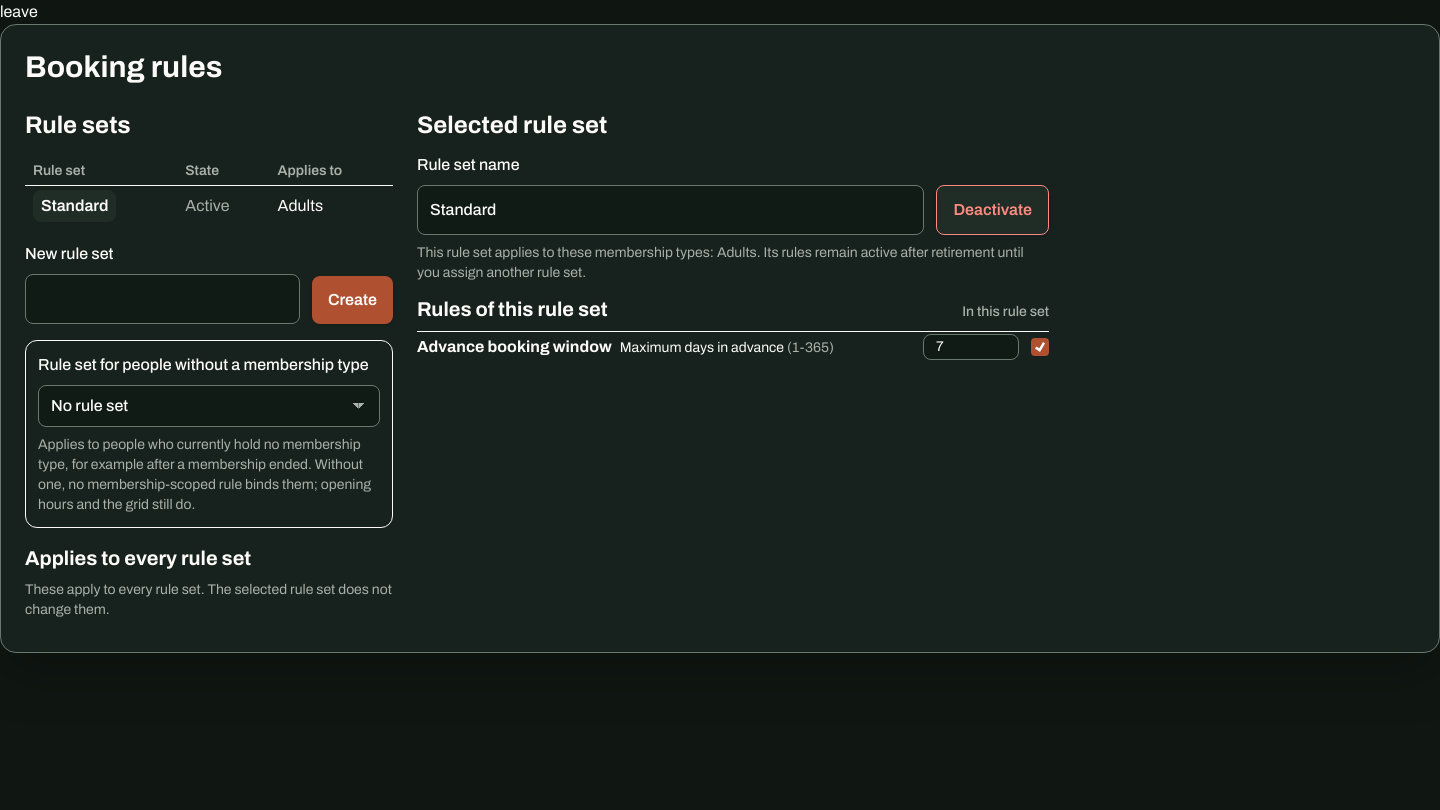
Test case: leaving an administrative page with unsaved work › given an edit on the booking rules page, when another page is opened, then the page asks first
This screenshot has width=1440, height=810.
Replace the text in the number field with test id "rule-ADVANCE_WINDOW-maxDays" with "9" at (971, 347), box [923,334,1019,360]
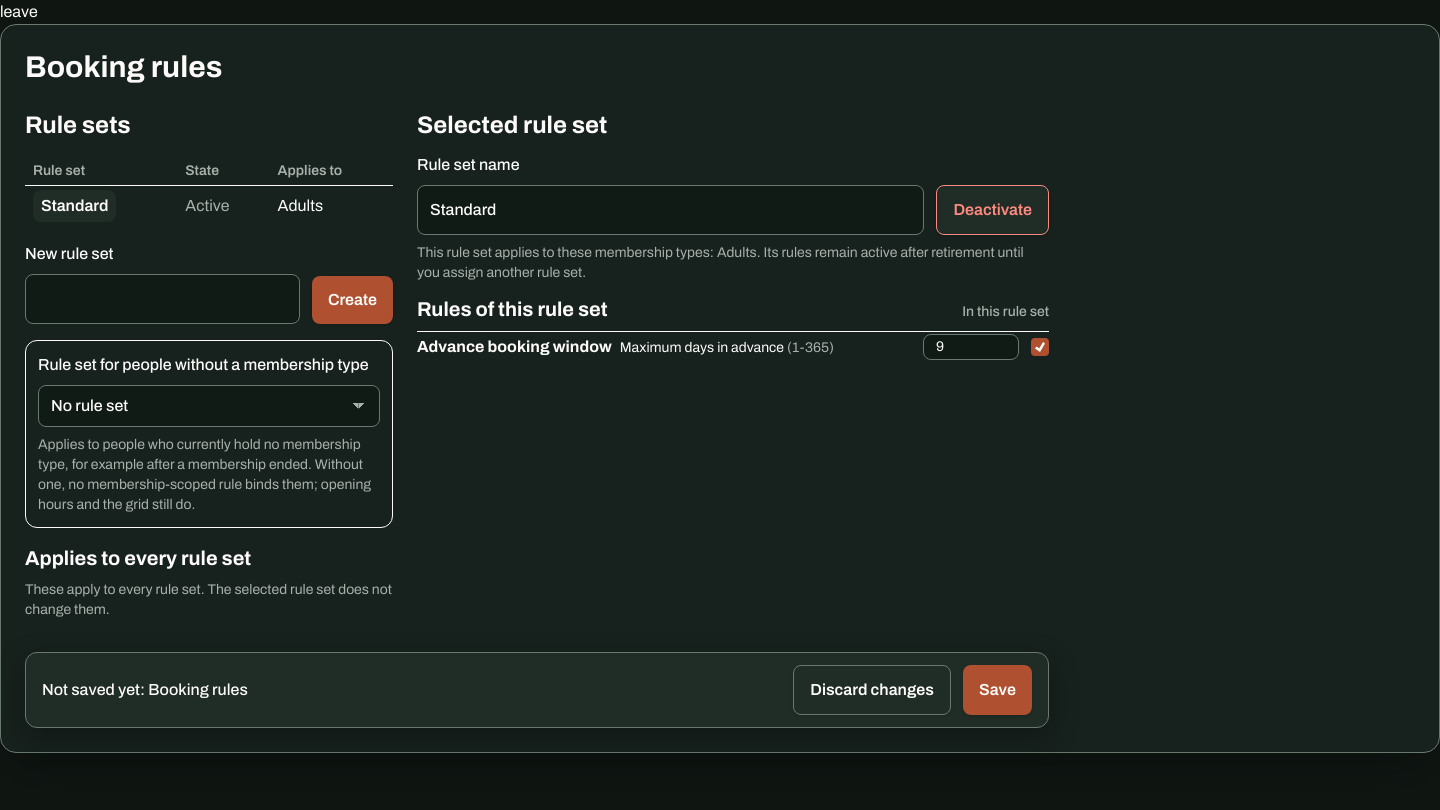
Now the element with test id "save-bar" is shown, box [25,652,1049,728]
Click the link with test id "leave" at (19, 12), box [0,3,38,20]
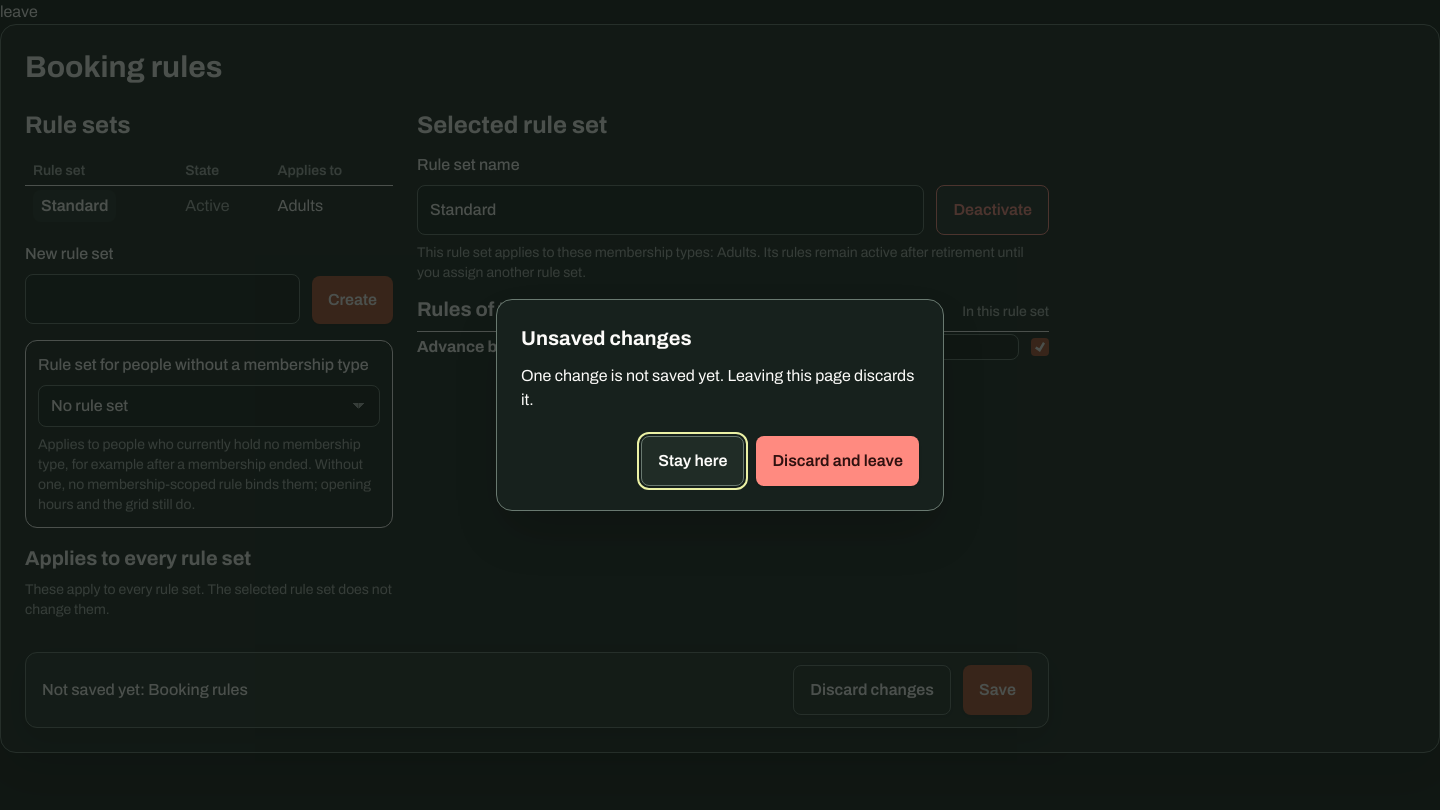
Now the dialog with test id "unsaved-changes" is shown, box [496,299,944,511]
